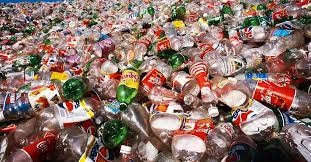plastic: (1, 65, 88, 128), (238, 75, 311, 115), (109, 64, 146, 112), (97, 118, 132, 151)
